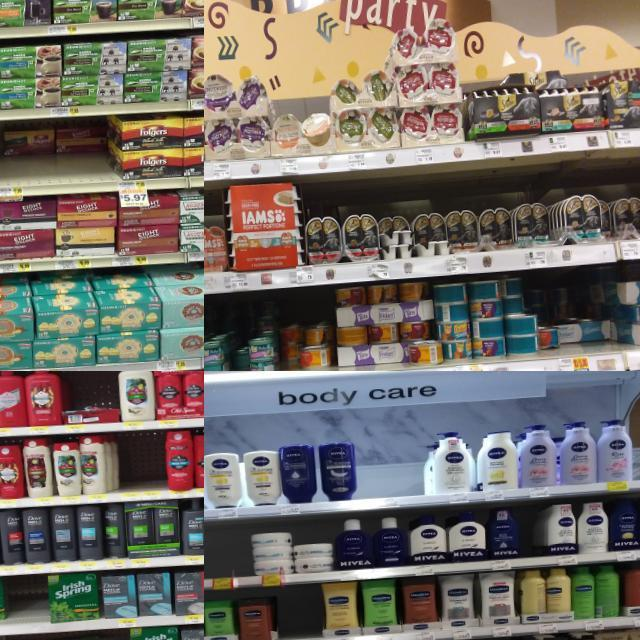Imprecise: (512, 276, 624, 368), (4, 124, 110, 182), (264, 317, 338, 377)
